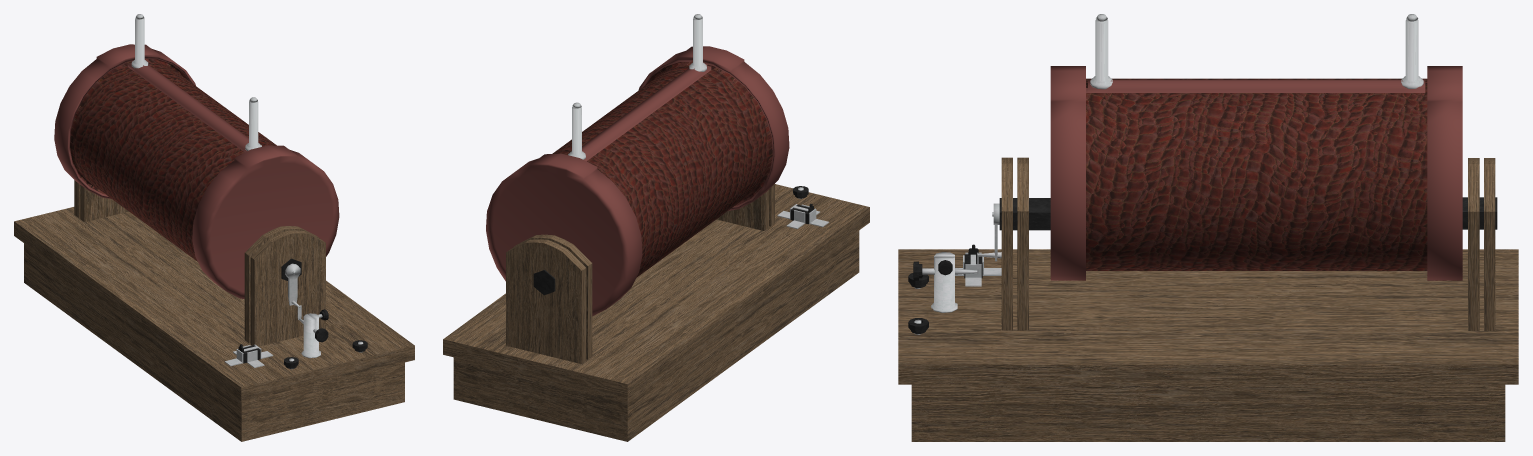
The model's file is kondensatorius.glb.
3 renders of one model, left to right at view 1: azimuth 30°, elevation 25°; view 2: azimuth 150°, elevation 25°; view 3: azimuth 270°, elevation 25°, orthographic. The views are drawn at different scales.
Parts seen in each view (by area): view 1: Cylinder; view 2: Cylinder; view 3: Cylinder.
Part boxes in pixels (x1,y1,x2,y2): Cylinder: (14, 14, 414, 441); Cylinder: (443, 14, 869, 441); Cylinder: (898, 14, 1518, 441).
Bounding box in the file's own units: 1.71 × 2.57 × 3.88.
5 materials, 4 textured.
